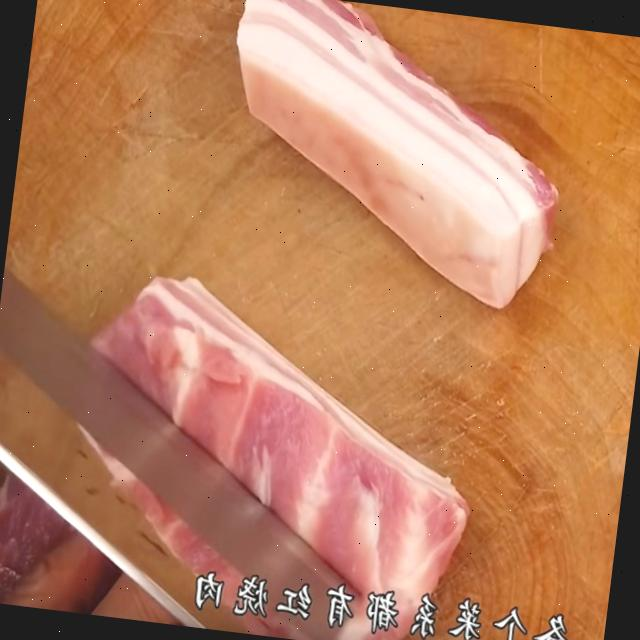meat: (96, 269, 535, 558), (206, 0, 574, 312)
